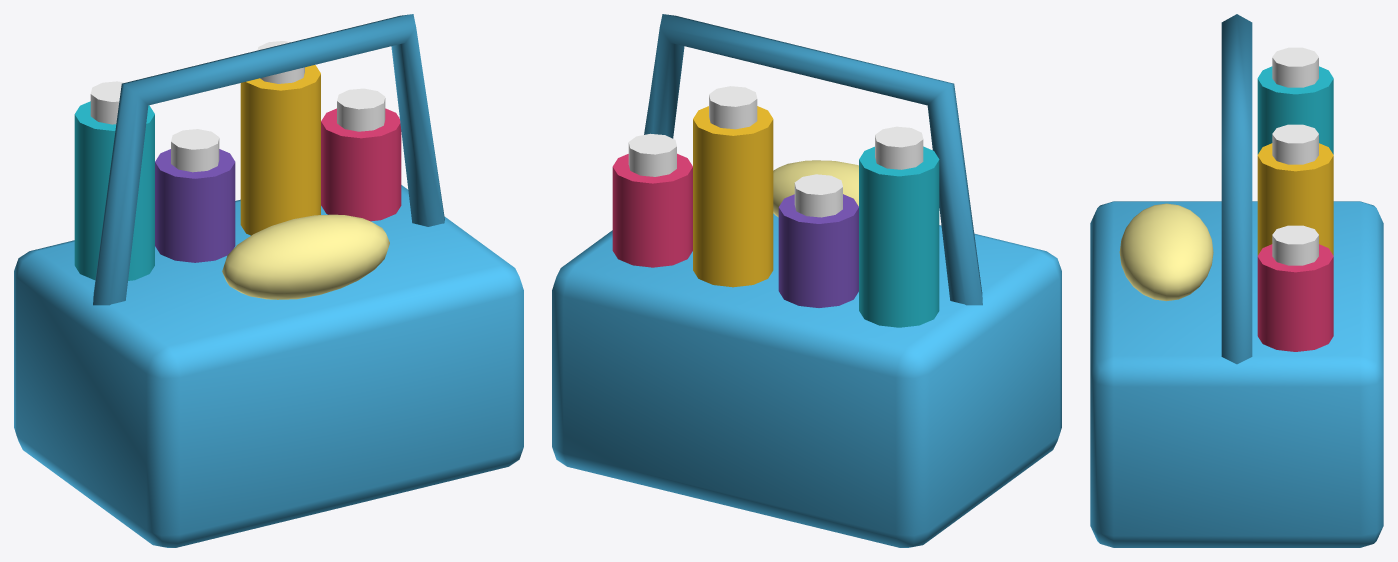
Rendered from shower_caddy.fbx.
3 views of the same model, side by side, from view 1: azimuth 30°, elevation 25°; view 2: azimuth 150°, elevation 25°; view 3: azimuth 270°, elevation 25° (orthographic). The views are drawn at different scales.
Visible parts, largest first — view 1: Shower Caddy; view 2: Shower Caddy; view 3: Shower Caddy.
Boxes of the visible parts, box(x1,y1,x2,y2) form: Shower Caddy: box(14, 14, 523, 547); Shower Caddy: box(552, 14, 1061, 547); Shower Caddy: box(1090, 14, 1383, 547).
Bounding box in the file's own units: 0.7 × 0.7326 × 0.5.
